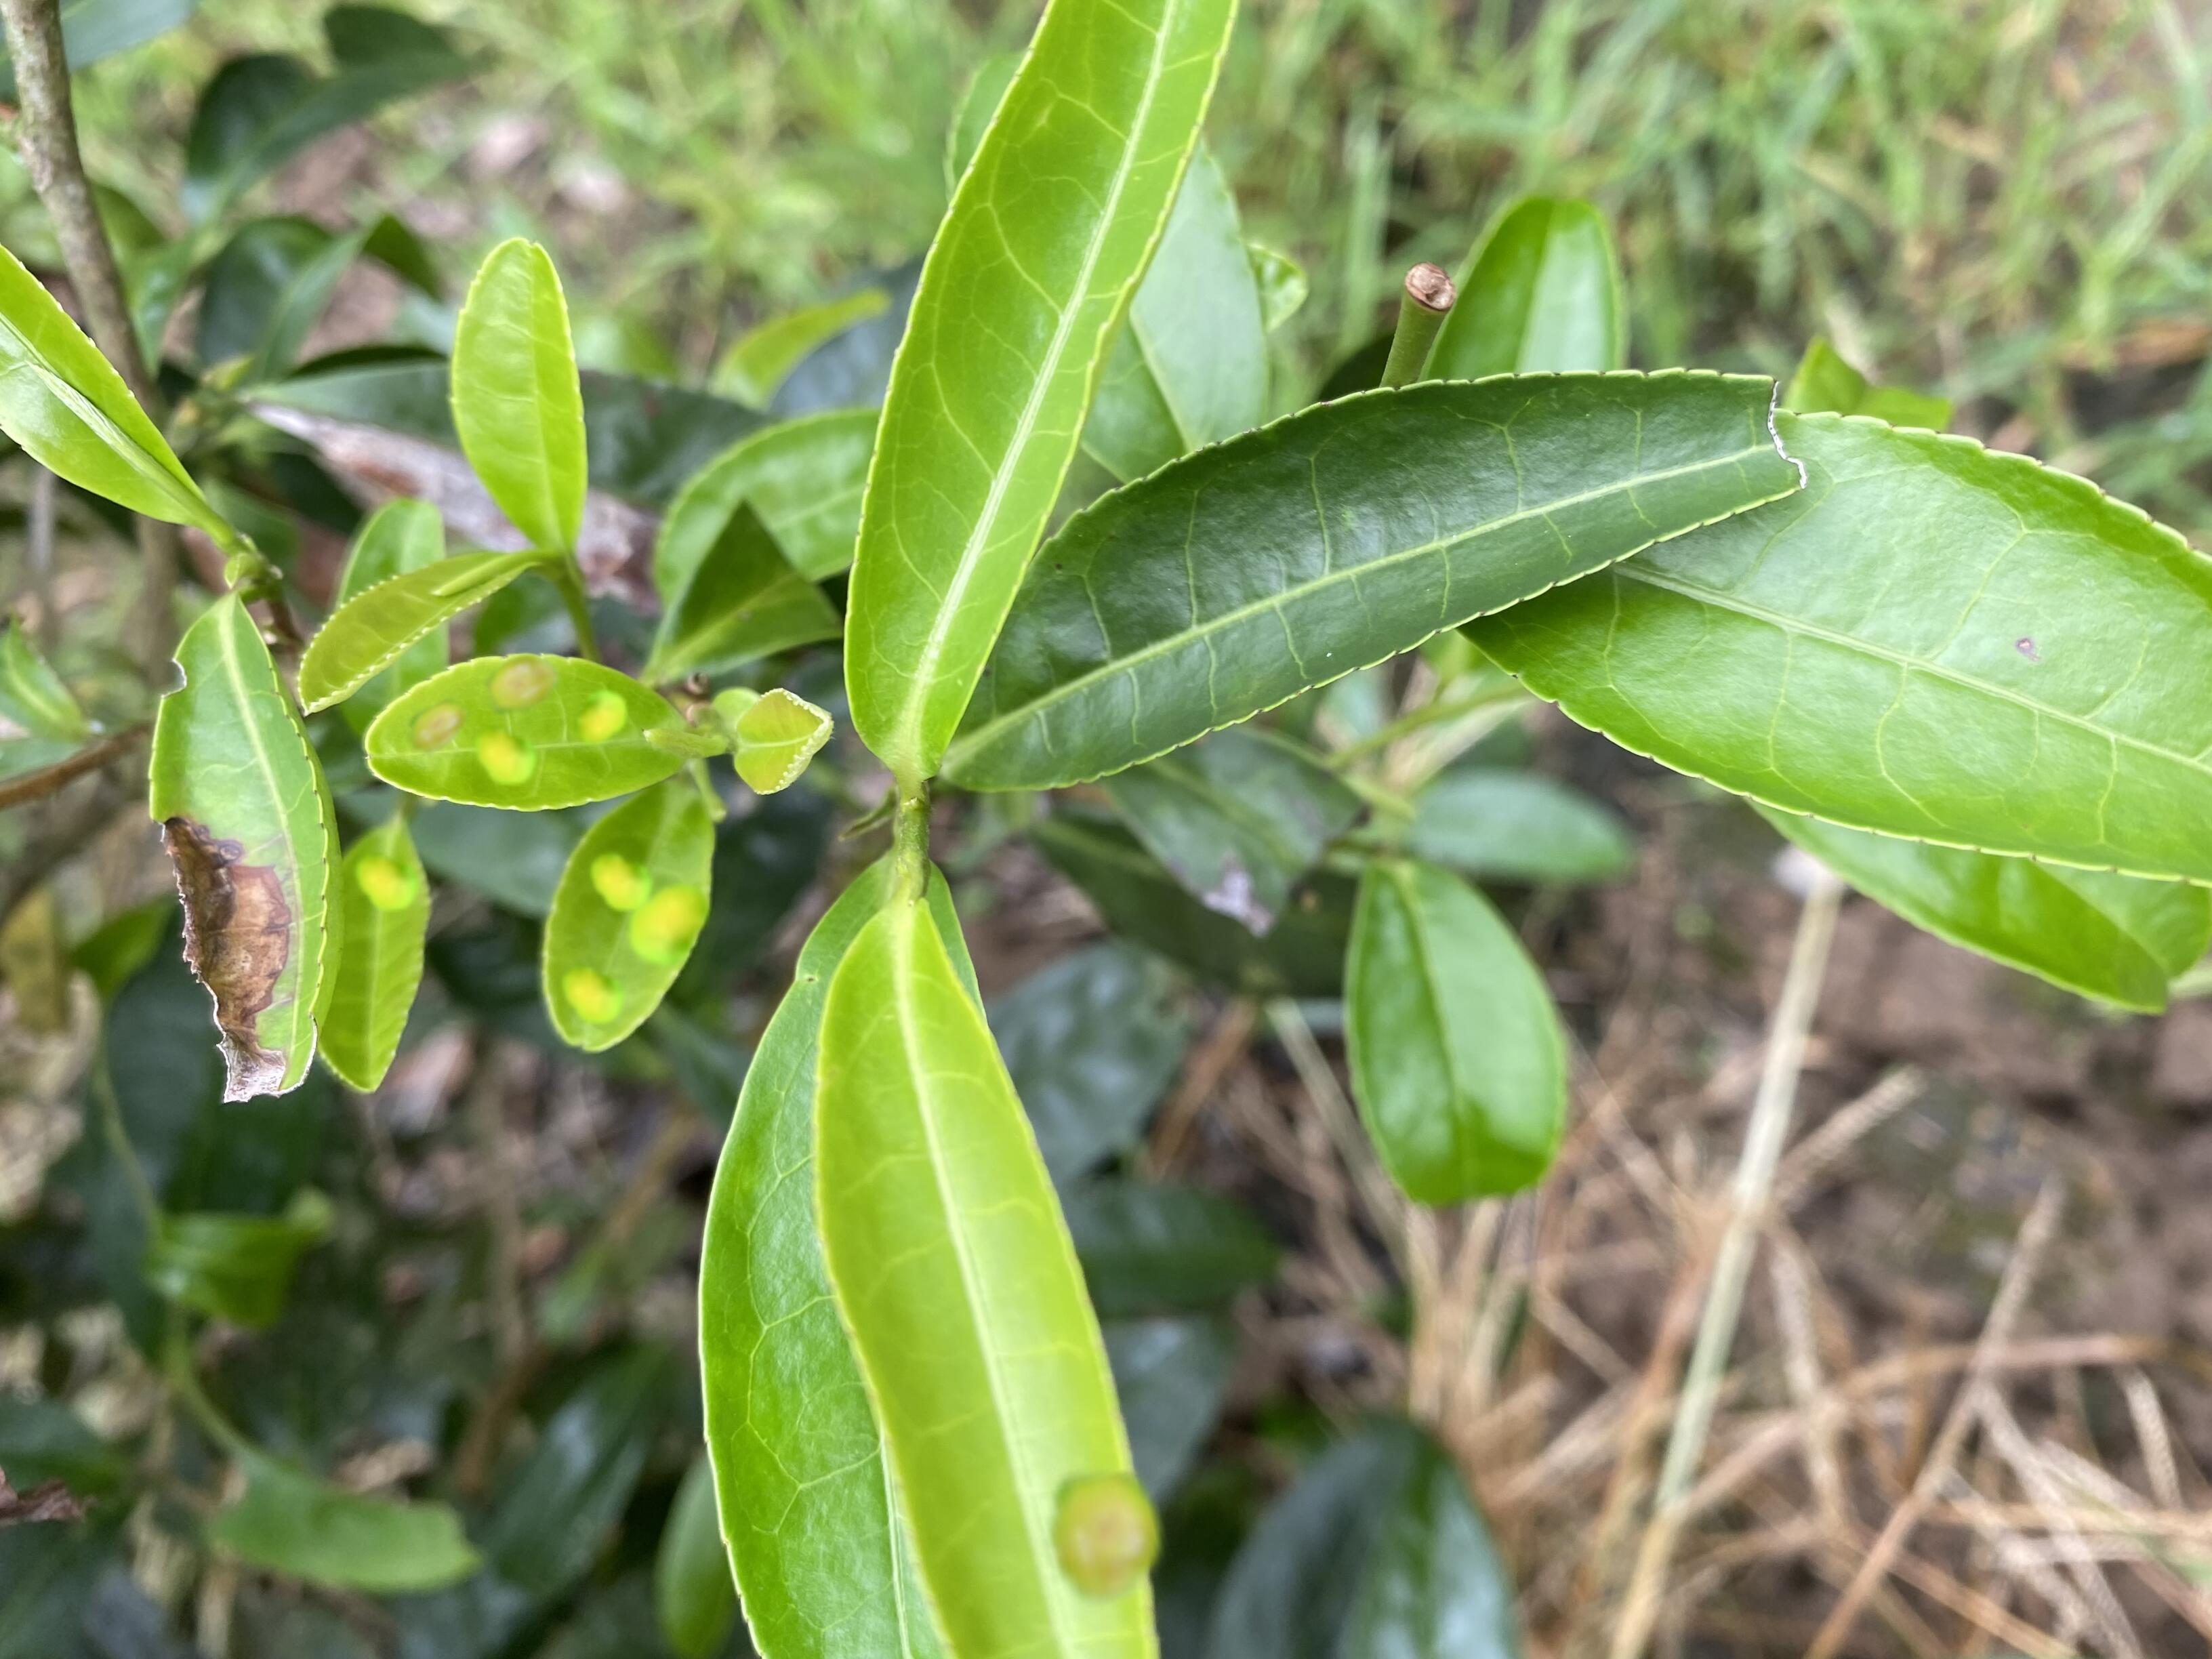chabing_high: (361, 648, 686, 814), (543, 782, 714, 1061)
chabing_low: (820, 906, 1163, 1652), (322, 816, 430, 1098)
chihuo_low: (975, 373, 1813, 795)
healthy: (845, 7, 1240, 782), (451, 239, 590, 551), (733, 690, 836, 798)
tanju_high: (152, 591, 341, 1105)
